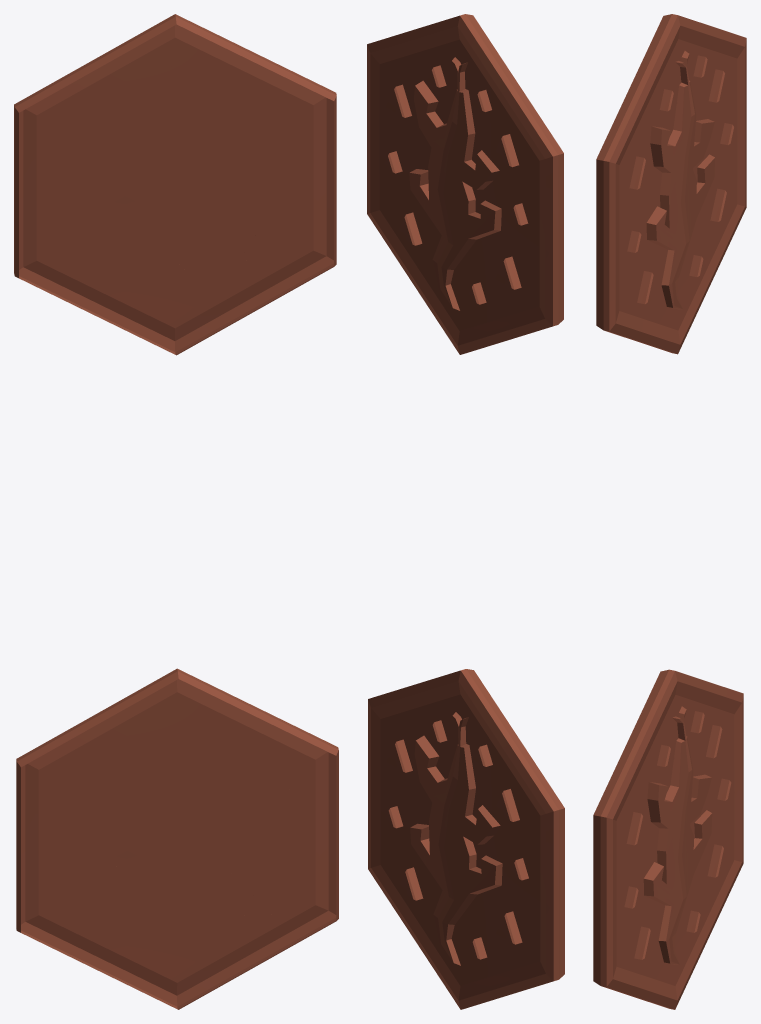
File: detail_copper.gltf
3 views of the same model, side by side, from view 1: azimuth 30°, elevation 25°; view 2: azimuth 150°, elevation 25°; view 3: azimuth 270°, elevation 25° (orthographic).
Visible parts, largest first — view 1: copper plates; view 2: copper plates; view 3: copper plates.
Boxes of the visible parts, x1,y1,x2,y2 form: copper plates: [14, 14, 338, 1009]; copper plates: [367, 14, 564, 1009]; copper plates: [593, 14, 746, 1009].
Bounding box in the file's own units: 1.84 × 6.76 × 0.9447.
Materials: 1 (1 with a texture image).
